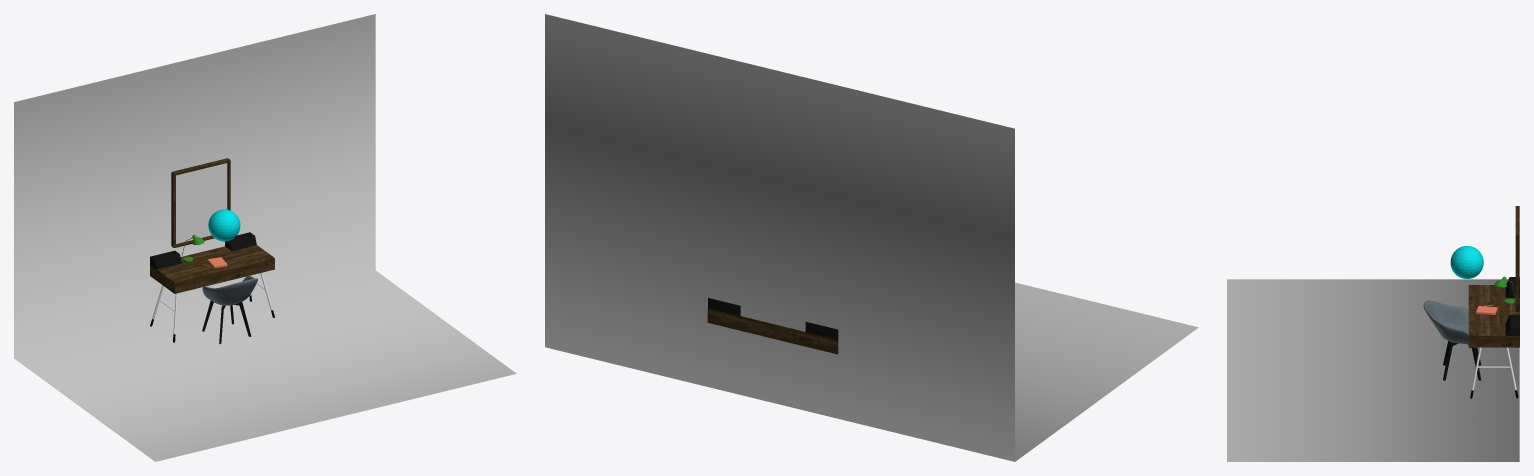
The model's file is Prueba espejo.gltf.
3 renders of one model, left to right at view 1: azimuth 30°, elevation 25°; view 2: azimuth 150°, elevation 25°; view 3: azimuth 270°, elevation 25°, orthographic. The views are drawn at different scales.
Visible parts, largest first — view 1: Plane001, contemporary_desk, Espejo, contemporary_chair, Marco, Sphere; view 2: Plane001, contemporary_desk; view 3: Plane001, contemporary_desk, contemporary_chair, Sphere, Marco.
Part boxes in pixels (x1=…): Plane001: x1=14, y1=14, x2=516, y2=461; contemporary_desk: x1=150, y1=232, x2=274, y2=342; Espejo: x1=176, y1=163, x2=227, y2=243; contemporary_chair: x1=202, y1=275, x2=257, y2=344; Marco: x1=171, y1=158, x2=230, y2=247; Sphere: x1=208, y1=209, x2=240, y2=241; Plane001: x1=545, y1=14, x2=1198, y2=461; contemporary_desk: x1=707, y1=298, x2=838, y2=354; Plane001: x1=1227, y1=279, x2=1519, y2=461; contemporary_desk: x1=1468, y1=277, x2=1519, y2=398; contemporary_chair: x1=1423, y1=300, x2=1481, y2=380; Sphere: x1=1450, y1=246, x2=1483, y2=278; Marco: x1=1515, y1=206, x2=1519, y2=311.
Bounding box in the file's own units: 5.04 × 3.41 × 3.42.
